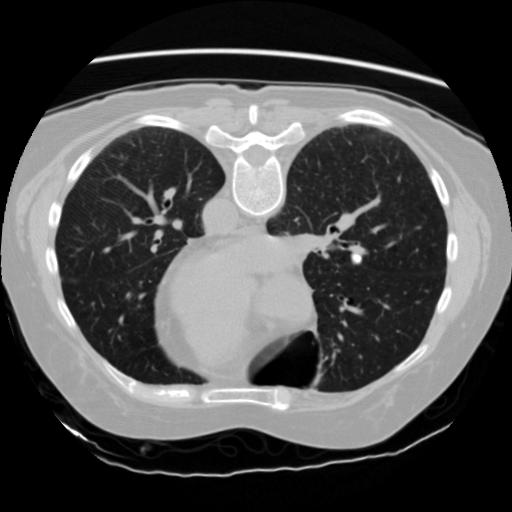nodule: (349, 251, 367, 269)
